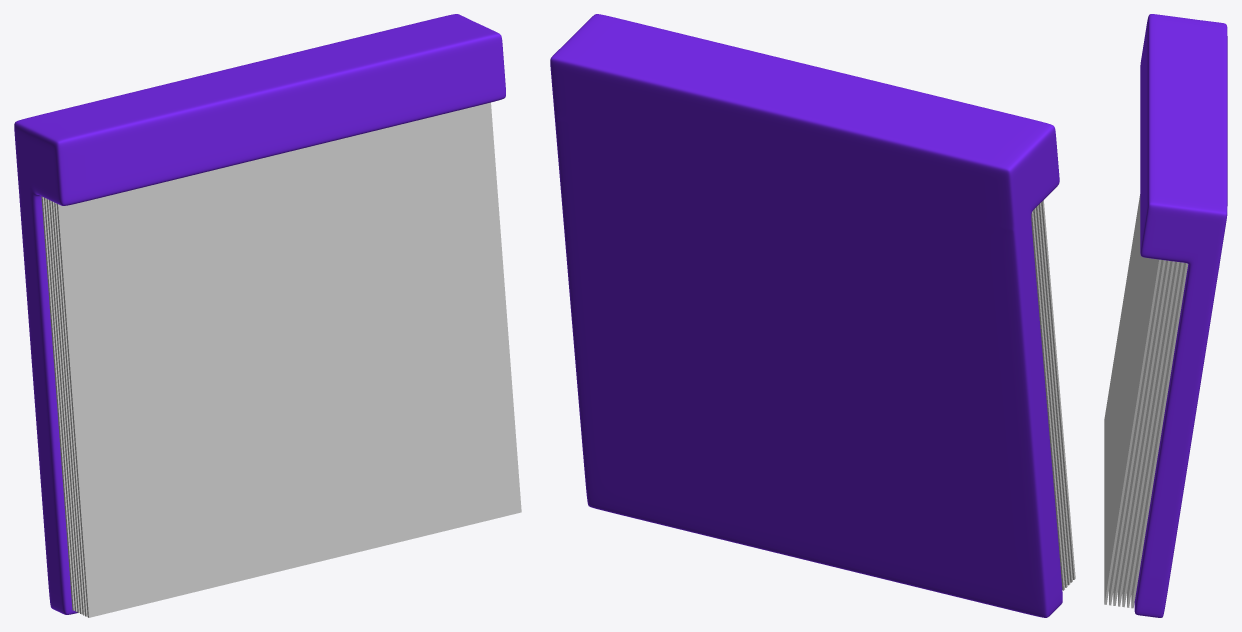
Rendered from Calender.glb.
The picture shows the model from 3 angles, left to right: view 1: azimuth 30°, elevation 25°; view 2: azimuth 150°, elevation 25°; view 3: azimuth 270°, elevation 25°; orthographic projection. The views are drawn at different scales.
Parts seen in each view (by area): view 1: Paper, Callender; view 2: Callender, Paper; view 3: Callender, Paper.
Part boxes in pixels (bbox=[...]): Paper: bbox=[41, 102, 521, 617]; Callender: bbox=[14, 14, 505, 614]; Callender: bbox=[550, 14, 1062, 617]; Paper: bbox=[1031, 200, 1075, 591]; Callender: bbox=[1134, 14, 1227, 617]; Paper: bbox=[1104, 194, 1188, 608].
Bounding box in the file's own units: 2 × 2.02 × 0.5427.
